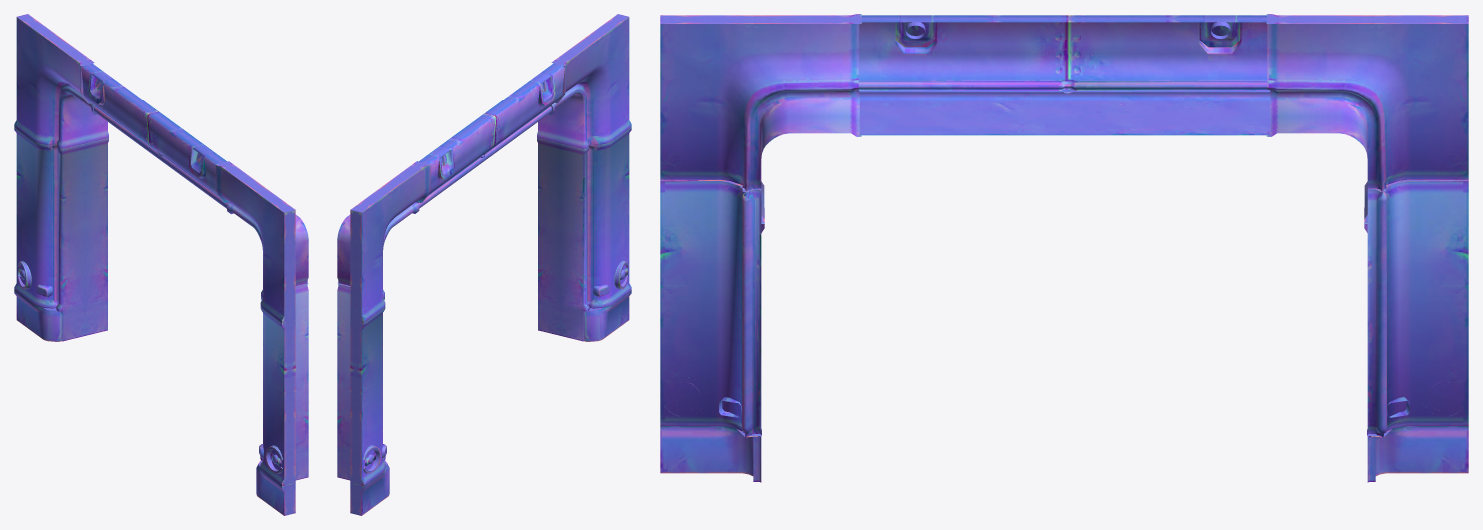
Rendered from Wall_Interior_Door_800x500_B.fbx.
3 renders of one model, left to right at view 1: azimuth 30°, elevation 25°; view 2: azimuth 150°, elevation 25°; view 3: azimuth 270°, elevation 25°, orthographic. The views are drawn at different scales.
Parts seen in each view (by area): view 1: Geom_Wall_Interior_Door_800x500_B_LOD00; view 2: Geom_Wall_Interior_Door_800x500_B_LOD00; view 3: Geom_Wall_Interior_Door_800x500_B_LOD00.
Boxes of the visible parts, <box> form: Geom_Wall_Interior_Door_800x500_B_LOD00: <box>14,14,308,515</box>; Geom_Wall_Interior_Door_800x500_B_LOD00: <box>337,14,631,515</box>; Geom_Wall_Interior_Door_800x500_B_LOD00: <box>660,14,1468,482</box>.
Size of what is drawn, in the model's own units: 113 by 500 by 800.
